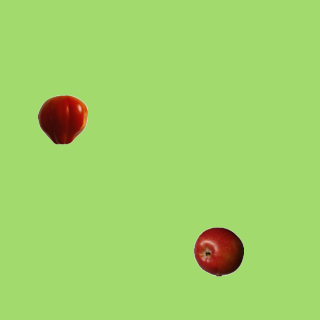Apple Braeburn: (193, 226, 243, 276)
Tomato 1: (37, 94, 87, 144)
